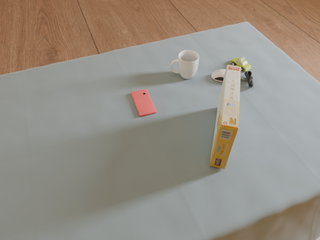box: (210, 65, 241, 169)
cup: (171, 50, 199, 79)
mouse: (211, 69, 226, 82)
phone: (131, 89, 156, 116)
toy_car: (230, 57, 251, 72)
